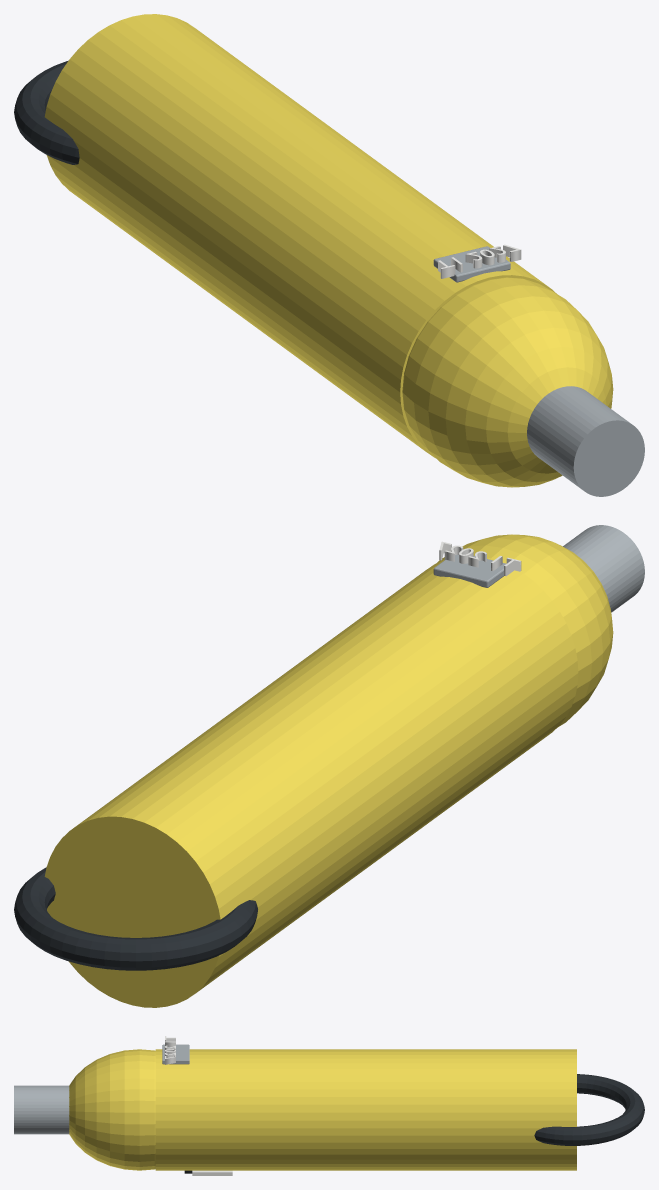
File: BOTTLE1.glb
3 renders of one model, top to bottom at view 1: azimuth 30°, elevation 25°; view 2: azimuth 150°, elevation 25°; view 3: azimuth 270°, elevation 25°, orthographic. The views are drawn at different scales.
Visible parts, largest first — view 1: body, shoulder, neck, boot, stamp1, stamp; view 2: body, boot, shoulder, neck, stamp, stamp1; view 3: body, shoulder, boot, neck, stamp, stamp1, numplate.
Part boxes in pixels (left/top/right/bottom): body: left=44, top=14, right=556, bottom=457; shoulder: left=402, top=277, right=613, bottom=487; neck: left=527, top=386, right=644, bottom=496; boot: left=14, top=60, right=79, bottom=164; stamp1: left=438, top=244, right=521, bottom=278; stamp: left=433, top=246, right=510, bottom=282; body: left=44, top=555, right=578, bottom=1007; boot: left=14, top=867, right=257, bottom=970; shoulder: left=437, top=534, right=613, bottom=726; neck: left=563, top=525, right=644, bottom=612; stamp: left=433, top=554, right=506, bottom=587; stamp1: left=439, top=541, right=521, bottom=576; body: left=155, top=1049, right=576, bottom=1170; shoulder: left=69, top=1049, right=155, bottom=1170; boot: left=534, top=1074, right=644, bottom=1145; neck: left=14, top=1085, right=69, bottom=1134; stamp: left=162, top=1044, right=189, bottom=1064; stamp1: left=164, top=1036, right=175, bottom=1064; numplate: left=192, top=1170, right=232, bottom=1175.
Size of the model in its own units: 0.178 by 0.1705 by 0.779.
